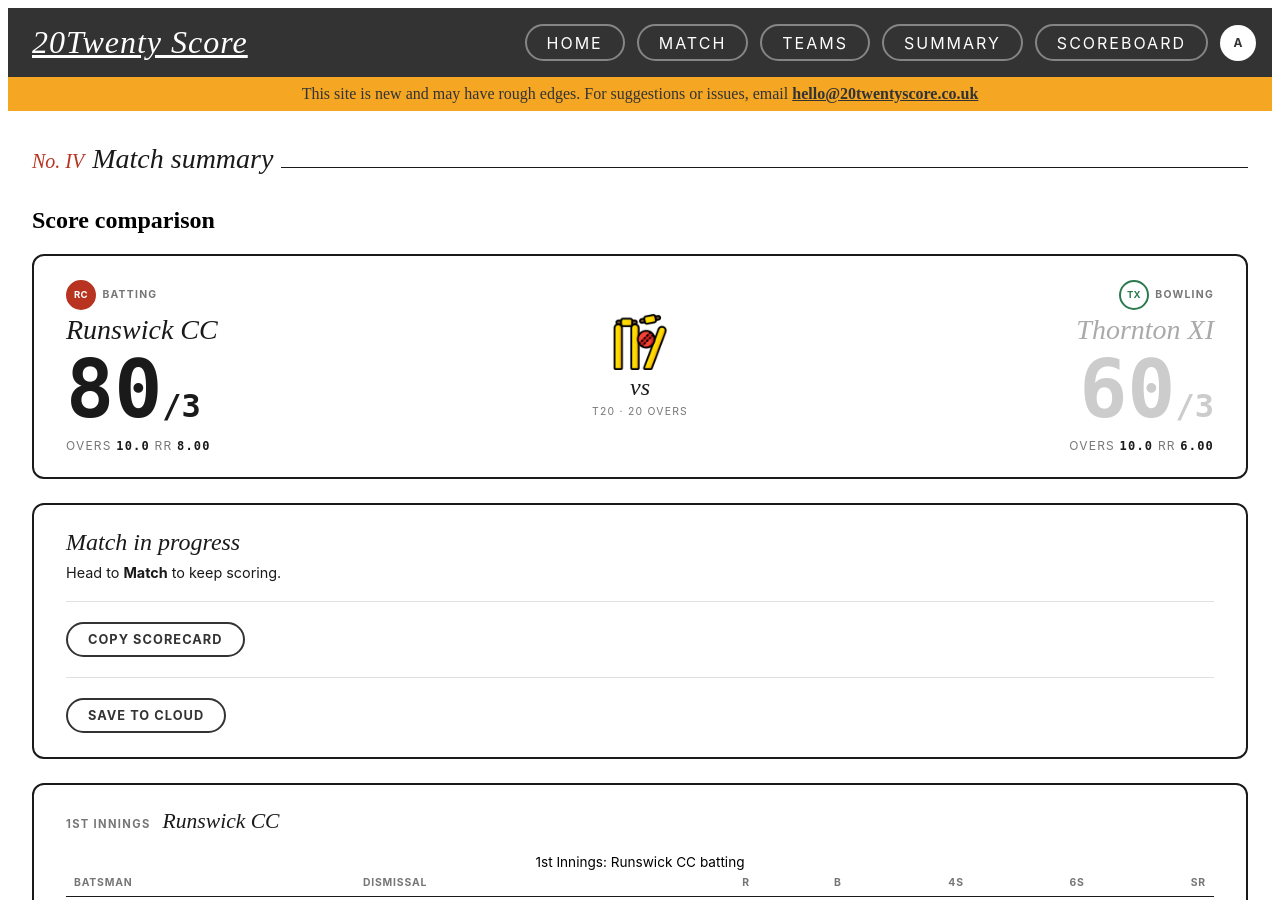
Test case: SummaryPage › saveToCloud › creates a new cloud save via POST and stores the returned id
Click the button "Save to cloud": click(146, 715) [66, 698, 226, 733]
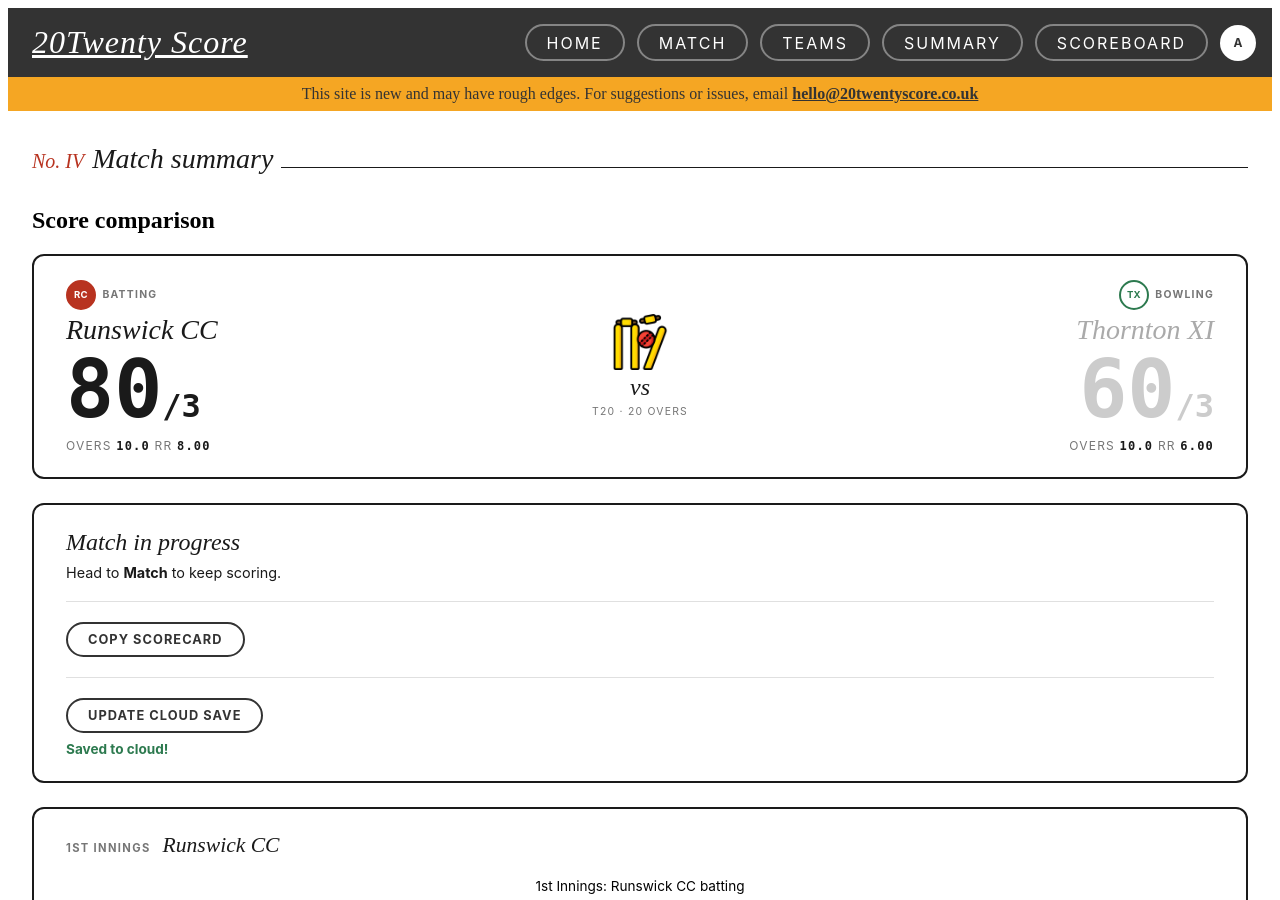
Result: the text "Saved to cloud!" is shown at [66, 741, 168, 757]
